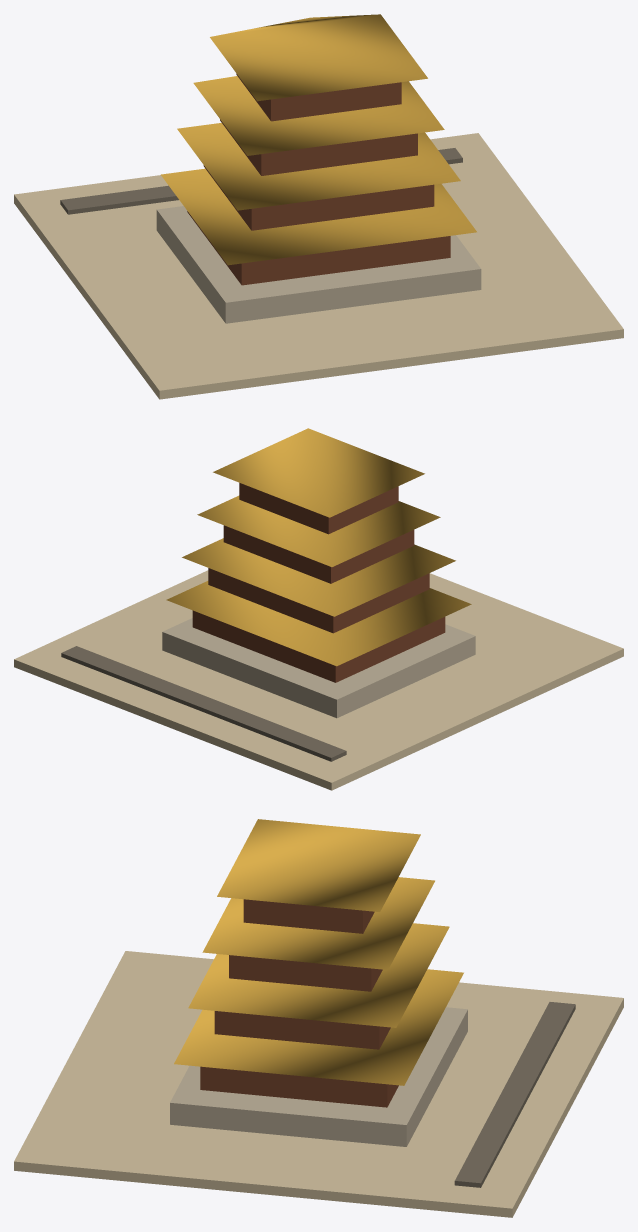
The model's file is model-medium.glb.
The picture shows the model from 3 angles, top to bottom: view 1: azimuth 30°, elevation 25°; view 2: azimuth 150°, elevation 25°; view 3: azimuth 270°, elevation 25°; orthographic projection. The views are drawn at different scales.
Parts seen in each view (by area): view 1: context_site_plinth, pavilion_terrace, pavilion_roof_4, pavilion_roof_1, pavilion_roof_2, pavilion_roof_3, pavilion_floor_1, pavilion_floor_2, pavilion_floor_3, pavilion_floor_4, front_scale_strip; view 2: context_site_plinth, pavilion_terrace, pavilion_roof_4, pavilion_roof_1, pavilion_roof_2, pavilion_roof_3, front_scale_strip, pavilion_floor_1, pavilion_floor_2, pavilion_floor_3, pavilion_floor_4; view 3: context_site_plinth, pavilion_roof_4, pavilion_terrace, pavilion_roof_1, pavilion_roof_2, pavilion_roof_3, front_scale_strip, pavilion_floor_1, pavilion_floor_2, pavilion_floor_3, pavilion_floor_4.
Boxes of the visible parts, <box> form: context_site_plinth: <box>14,133,623,399</box>; pavilion_terrace: <box>156,206,481,323</box>; pavilion_roof_4: <box>210,14,427,101</box>; pavilion_roof_1: <box>161,168,476,265</box>; pavilion_roof_2: <box>177,123,460,210</box>; pavilion_roof_3: <box>193,76,444,155</box>; pavilion_floor_1: <box>187,211,450,285</box>; pavilion_floor_2: <box>203,165,434,230</box>; pavilion_floor_3: <box>220,119,417,175</box>; pavilion_floor_4: <box>236,73,401,121</box>; front_scale_strip: <box>60,148,462,214</box>; context_site_plinth: <box>14,570,623,790</box>; pavilion_terrace: <box>162,618,475,718</box>; pavilion_roof_4: <box>213,428,424,517</box>; pavilion_roof_1: <box>166,581,471,666</box>; pavilion_roof_2: <box>182,538,455,616</box>; pavilion_roof_3: <box>197,495,440,566</box>; front_scale_strip: <box>61,646,346,761</box>; pavilion_floor_1: <box>192,610,445,682</box>; pavilion_floor_2: <box>208,568,429,633</box>; pavilion_floor_3: <box>223,525,414,583</box>; pavilion_floor_4: <box>239,483,398,534</box>; context_site_plinth: <box>14,951,623,1217</box>; pavilion_roof_4: <box>217,819,420,911</box>; pavilion_terrace: <box>170,1007,467,1146</box>; pavilion_roof_1: <box>174,969,463,1085</box>; pavilion_roof_2: <box>188,923,449,1027</box>; pavilion_roof_3: <box>202,877,434,969</box>; front_scale_strip: <box>454,1002,575,1187</box>; pavilion_floor_1: <box>200,1066,398,1107</box>; pavilion_floor_2: <box>214,1011,390,1049</box>; pavilion_floor_3: <box>229,955,382,991</box>; pavilion_floor_4: <box>243,899,374,933</box>.
Size of the model in its own units: 9.55 by 4.38 by 9.55.
